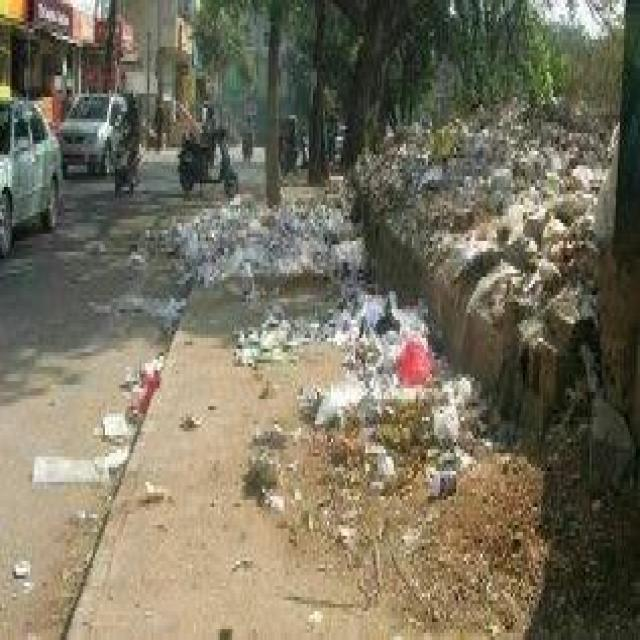garbage: (138, 137, 637, 613)
